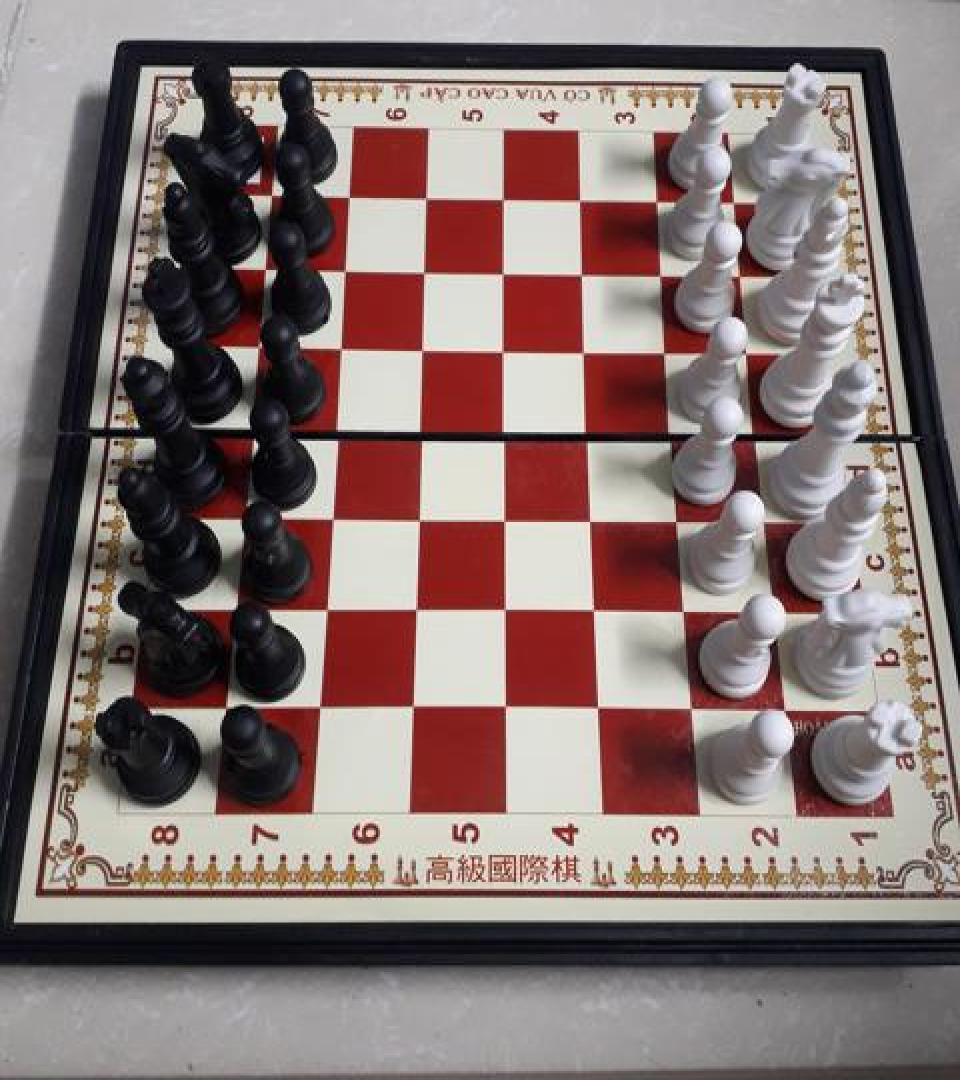xcorner: (771, 696, 803, 733), (209, 692, 241, 728), (303, 693, 335, 729), (397, 693, 429, 729), (491, 694, 523, 730), (585, 695, 617, 731), (678, 695, 710, 731), (217, 594, 249, 630), (309, 595, 341, 631), (400, 595, 432, 631), (491, 596, 523, 632), (582, 598, 614, 634), (672, 598, 704, 634), (762, 598, 794, 634), (225, 502, 257, 538), (314, 503, 346, 539), (402, 503, 434, 539), (491, 504, 523, 540), (579, 505, 611, 541), (666, 506, 698, 542), (754, 508, 786, 544), (233, 414, 265, 450), (319, 415, 351, 451), (405, 416, 437, 452), (490, 418, 522, 454), (576, 418, 608, 454), (661, 420, 693, 456), (746, 421, 778, 457), (240, 333, 272, 369), (324, 334, 356, 370), (407, 335, 439, 371), (490, 336, 522, 372), (573, 336, 605, 372), (656, 338, 688, 374), (738, 338, 770, 374), (247, 256, 279, 292), (328, 256, 360, 292), (409, 258, 441, 294), (490, 259, 522, 295), (571, 260, 603, 296), (651, 261, 683, 297), (731, 262, 763, 298), (253, 181, 285, 217), (332, 184, 364, 220), (411, 184, 443, 220), (568, 187, 600, 223), (647, 188, 679, 224), (725, 189, 757, 225), (490, 186, 522, 221)
